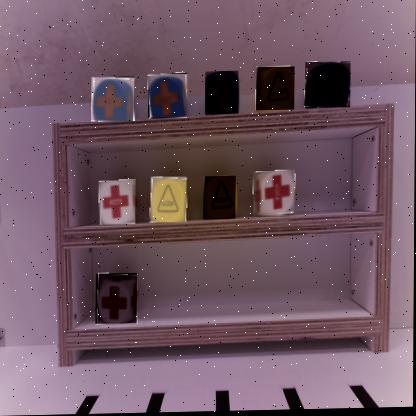CubeBlue: (306, 64, 353, 112), (93, 78, 137, 124), (149, 75, 190, 120), (206, 73, 241, 117)
CubeRed: (98, 275, 140, 326), (255, 173, 297, 219), (101, 182, 138, 227)
CubeYellow: (257, 69, 297, 114), (152, 178, 189, 225), (205, 178, 238, 222)
